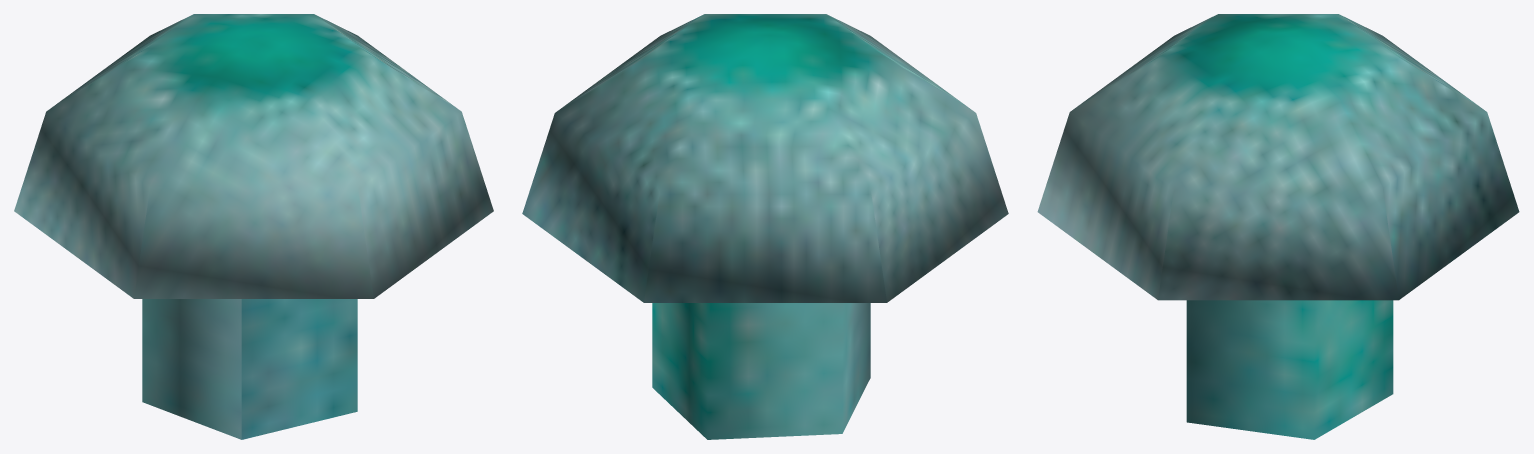
Rendered from MS_Mushroom_4.fbx.
The picture shows the model from 3 angles, left to right: view 1: azimuth 30°, elevation 25°; view 2: azimuth 150°, elevation 25°; view 3: azimuth 270°, elevation 25°; orthographic projection.
Parts seen in each view (by area): view 1: Icosphere; view 2: Icosphere; view 3: Icosphere.
Part boxes in pixels (<box>): Icosphere: <box>14,14,493,439</box>; Icosphere: <box>522,14,1008,439</box>; Icosphere: <box>1037,14,1519,439</box>.
Bounding box in the file's own units: 18.25 × 17.16 × 21.08.
